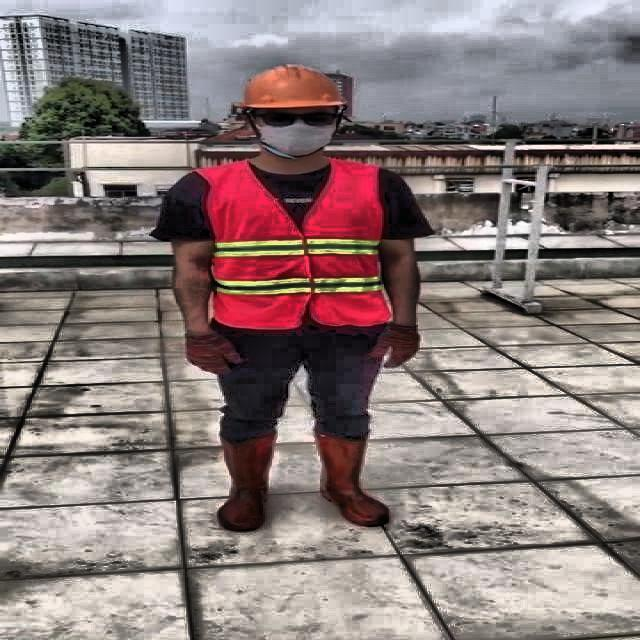safety_helmet: (234, 64, 359, 114)
safety_jacket: (202, 162, 388, 326)
